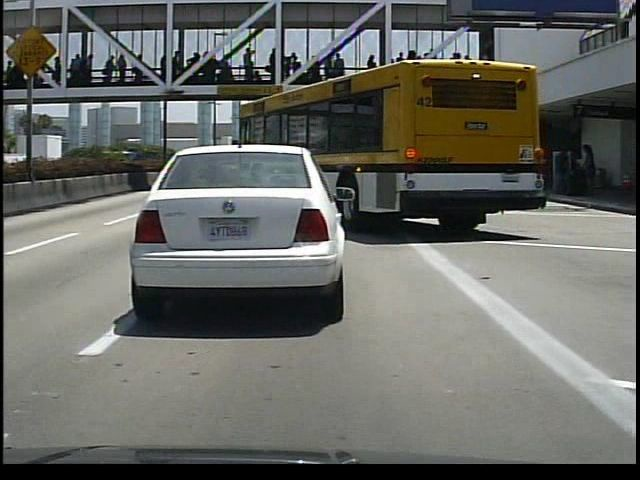person: (576, 142, 605, 203), (554, 139, 580, 200)
